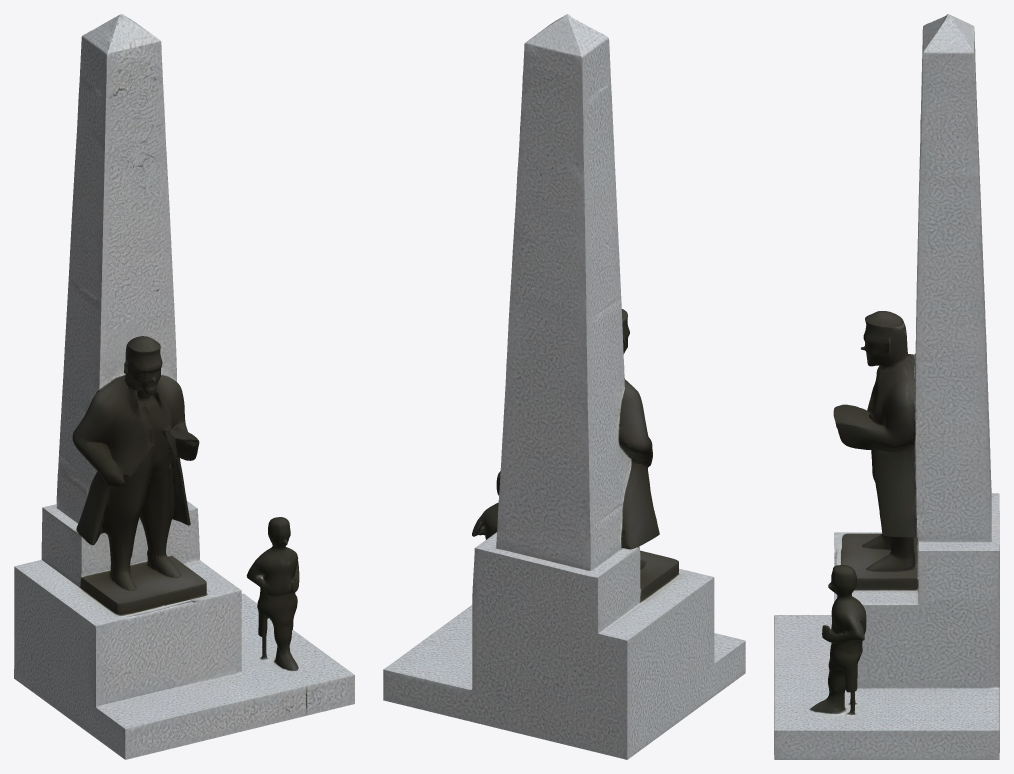
The model's file is rizal.glb.
3 views of the same model, side by side, from view 1: azimuth 30°, elevation 25°; view 2: azimuth 150°, elevation 25°; view 3: azimuth 270°, elevation 25° (orthographic). The views are drawn at different scales.
Visible parts, largest first — view 1: model; view 2: model; view 3: model.
Part boxes in pixels (box(x1,y1,x2,y2)): model: box(14, 14, 354, 759); model: box(383, 14, 745, 759); model: box(774, 14, 999, 759).
Bounding box in the file's own units: 0.6896 × 1.9 × 0.5784.
1 material, 1 textured.
